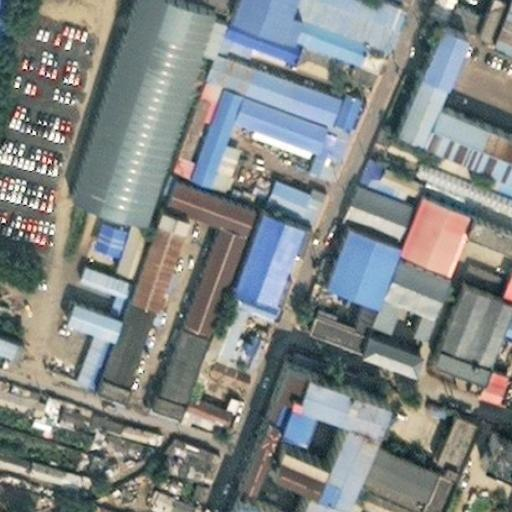building: (218, 414, 360, 512), (418, 269, 508, 376), (409, 92, 512, 179), (263, 349, 376, 427), (198, 42, 326, 110), (409, 143, 512, 221), (343, 426, 439, 505), (356, 242, 439, 333), (170, 215, 233, 324), (384, 180, 464, 264), (312, 211, 388, 296), (209, 8, 322, 65), (172, 340, 245, 424), (223, 79, 318, 141), (223, 202, 288, 292), (119, 199, 173, 300), (452, 202, 512, 292), (147, 169, 242, 225), (184, 74, 234, 175), (204, 280, 266, 359), (372, 64, 433, 138), (395, 4, 455, 79), (295, 276, 362, 338), (224, 414, 273, 498), (239, 160, 315, 214), (88, 290, 137, 368), (338, 174, 403, 231), (148, 314, 194, 394), (154, 426, 216, 482), (253, 436, 312, 492), (0, 438, 86, 476), (331, 475, 419, 512), (138, 463, 202, 512), (353, 144, 415, 194), (119, 434, 165, 501), (471, 322, 512, 397), (297, 115, 341, 175), (84, 403, 147, 443), (366, 123, 424, 164), (345, 326, 405, 361), (425, 407, 463, 460), (108, 211, 142, 268), (46, 386, 93, 427), (469, 436, 512, 480), (253, 390, 300, 429), (316, 80, 356, 125), (74, 254, 126, 287), (55, 292, 104, 326), (76, 492, 158, 512), (421, 468, 457, 512), (69, 321, 98, 372), (199, 134, 227, 180), (88, 213, 121, 244), (0, 479, 21, 499), (495, 306, 512, 328)
